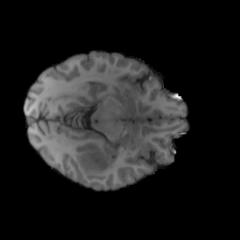glioma: (76, 146, 115, 175)
